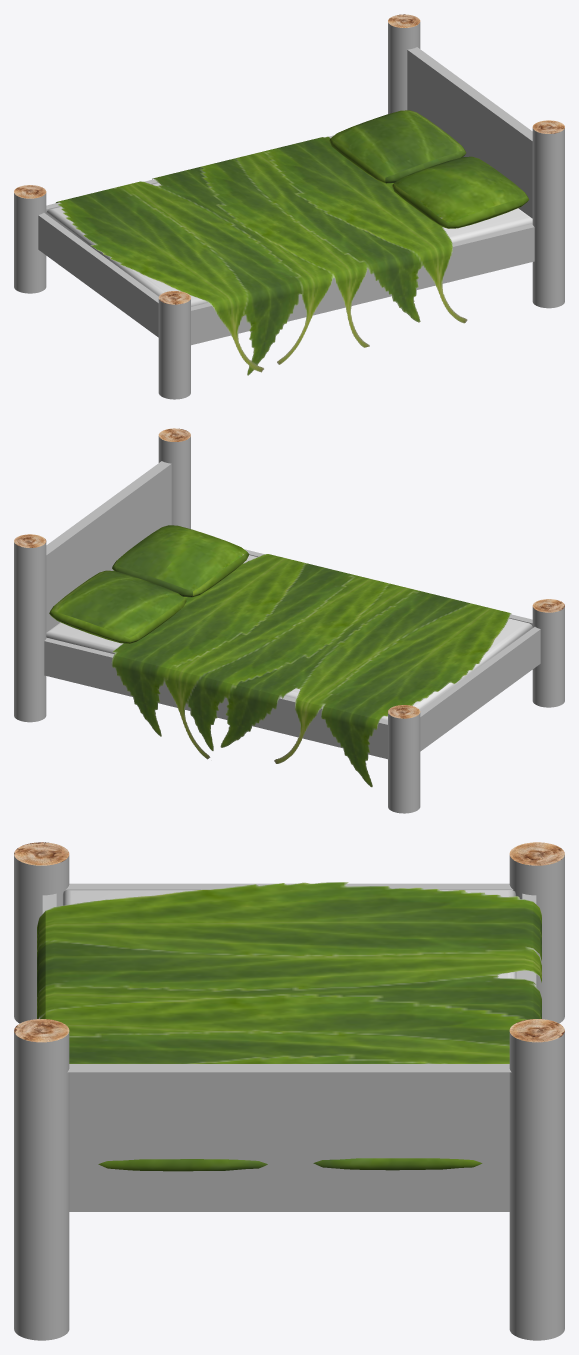
Rendered from Forest Bed.fbx.
3 views of the same model, one above another, from view 1: azimuth 30°, elevation 25°; view 2: azimuth 150°, elevation 25°; view 3: azimuth 270°, elevation 25° (orthographic). The views are drawn at different scales.
Visible parts, largest first — view 1: Cube.001, Cube, Cylinder, Cylinder.001, Cube.003, Cube.004, Cube.002; view 2: Cube.001, Cube, Cylinder, Cylinder.001, Cube.004, Cube.003, Cube.002; view 3: Cube.001, Cube, Cylinder, Cylinder.001, Cube.003, Cube.004, Cube.002.
Boxes of the visible parts, box(x1,y1,x2,y2) form: Cube.001: box(56, 136, 467, 375); Cube: box(38, 47, 534, 345); Cylinder: box(388, 14, 564, 308); Cylinder.001: box(14, 185, 190, 399); Cube.003: box(392, 156, 528, 228); Cube.004: box(329, 110, 466, 183); Cube.002: box(46, 183, 532, 306); Cube.001: box(111, 554, 511, 787); Cube: box(44, 461, 540, 759); Cylinder: box(14, 428, 190, 722); Cylinder.001: box(388, 599, 564, 813); Cube.004: box(49, 570, 186, 643); Cube.003: box(112, 525, 249, 597); Cube.002: box(46, 555, 532, 720); Cube.001: box(37, 882, 541, 1063); Cube: box(42, 883, 536, 1211); Cylinder: box(14, 1019, 564, 1340); Cylinder.001: box(14, 842, 564, 1023); Cube.003: box(98, 1159, 267, 1171); Cube.004: box(313, 1158, 482, 1170); Cube.002: box(62, 890, 516, 978).
Bounding box in the file's own units: 564 × 234 × 391.
